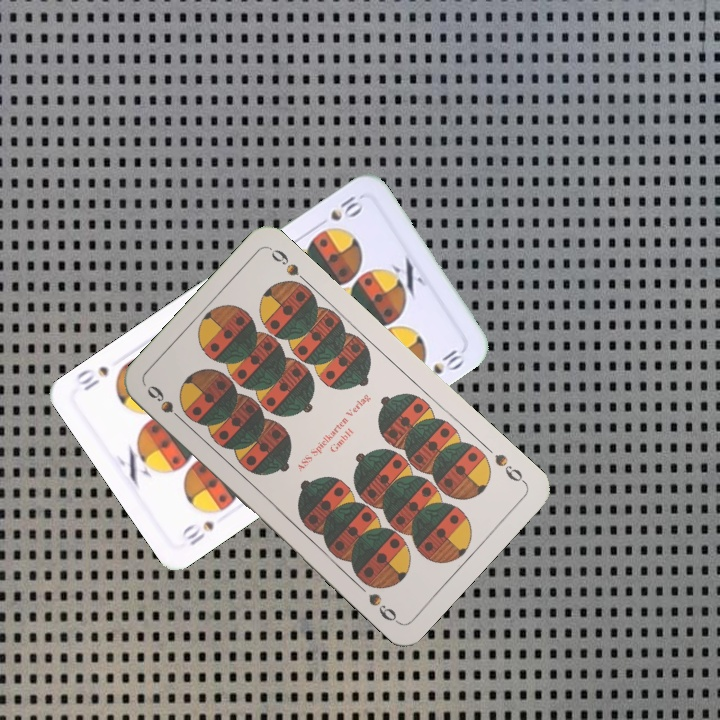S10: (312, 191, 366, 231), (177, 516, 217, 549)
S9: (143, 381, 190, 427), (490, 449, 529, 487)
